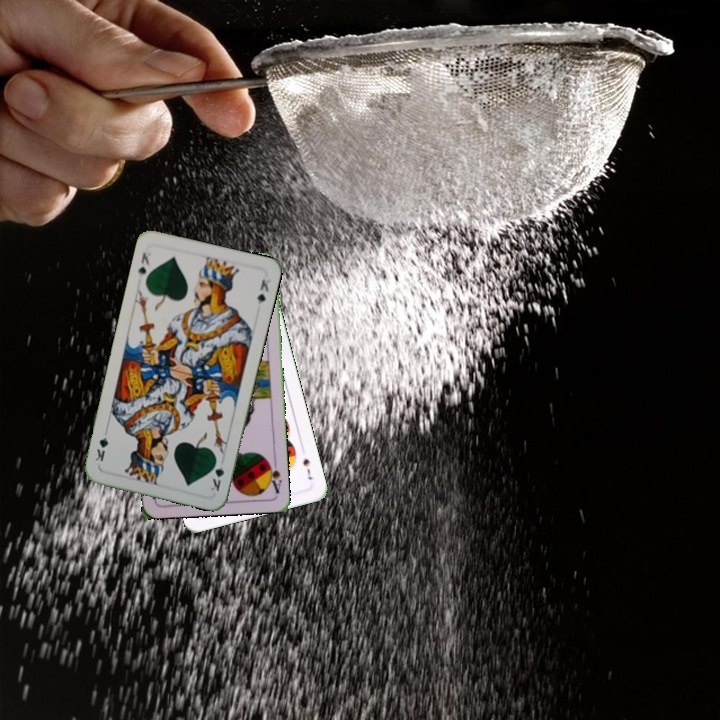GK: (207, 454, 227, 494), (134, 248, 152, 280)
S7: (299, 454, 315, 482)
SA: (263, 455, 284, 496)
